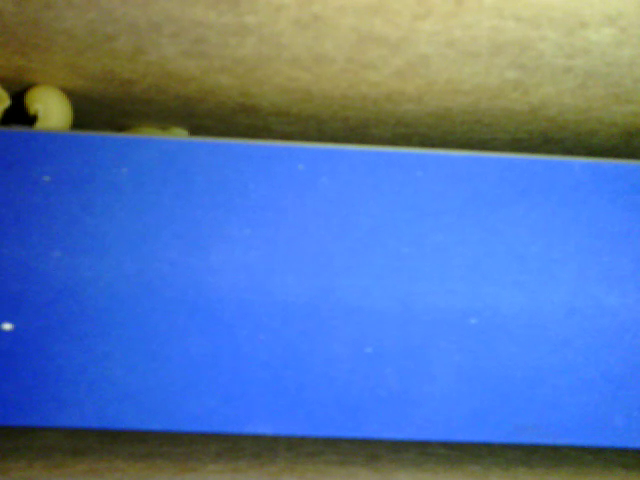shell: (18, 80, 75, 134)
